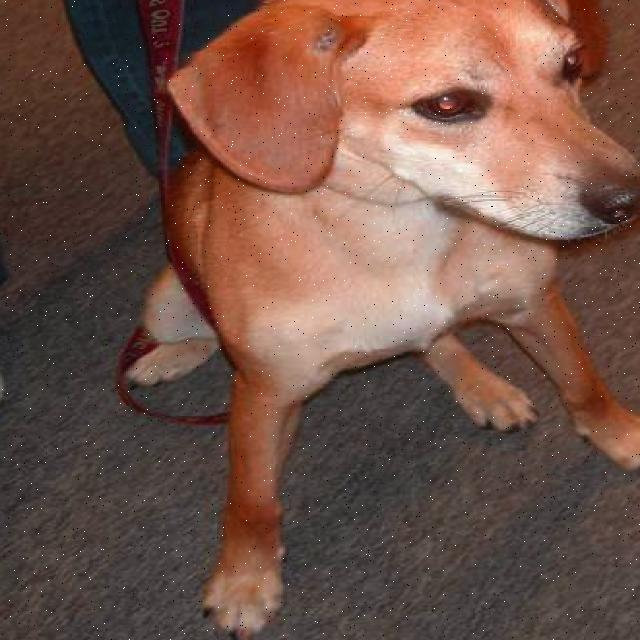Dog: (157, 0, 640, 255)
